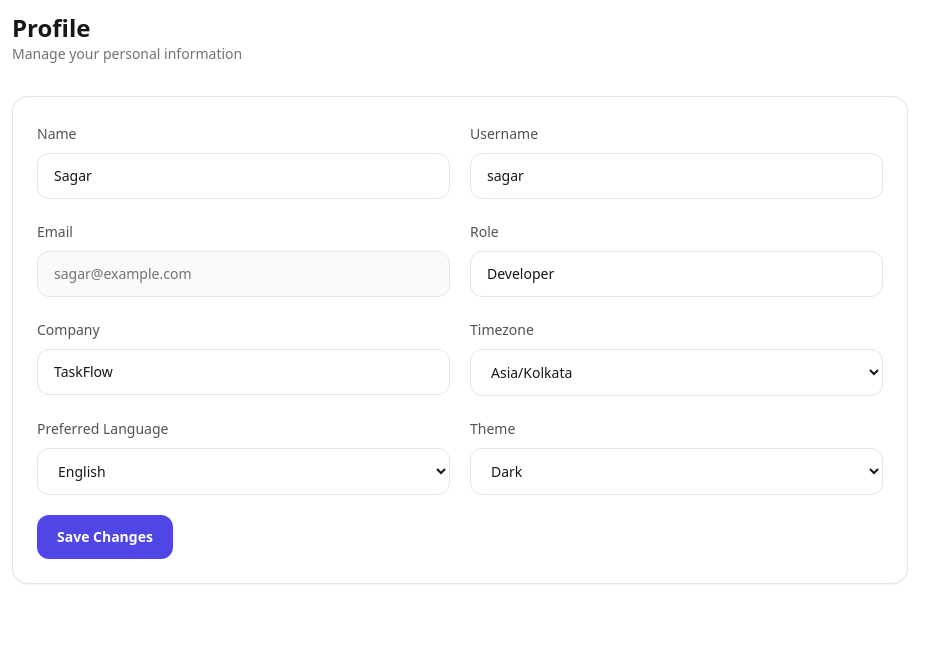
Test: Profile › loads the current profile and saves it successfully
Expected: the field showing "Sagar" is shown, top-left (37, 153), bottom-right (450, 199)
Click the button "Save Changes". click: (105, 537)
box: top-left (37, 515), bottom-right (173, 559)
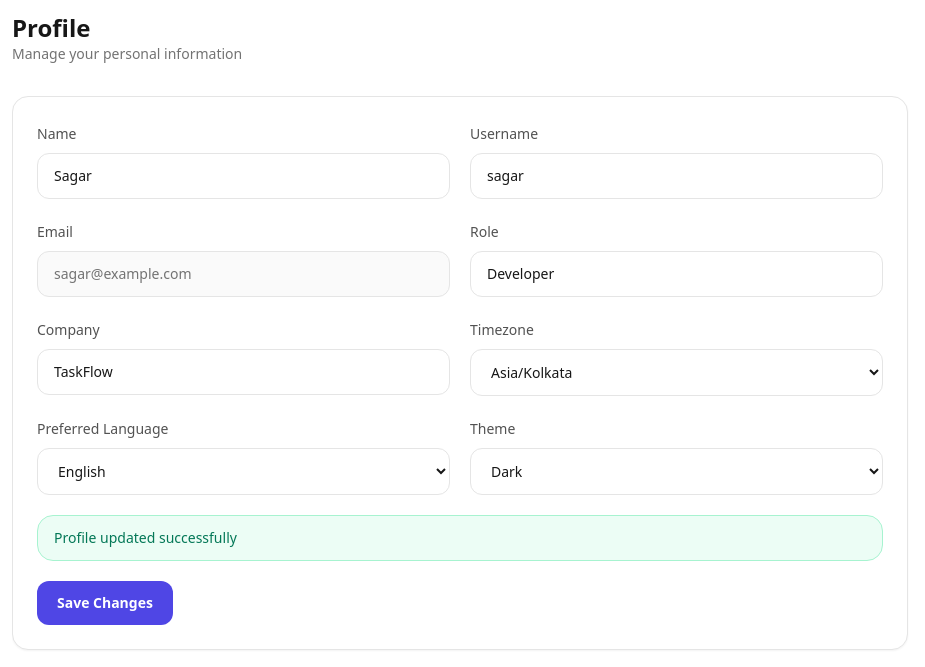
Expected: the text "Profile updated successfully" is shown, top-left (37, 515), bottom-right (883, 561)
